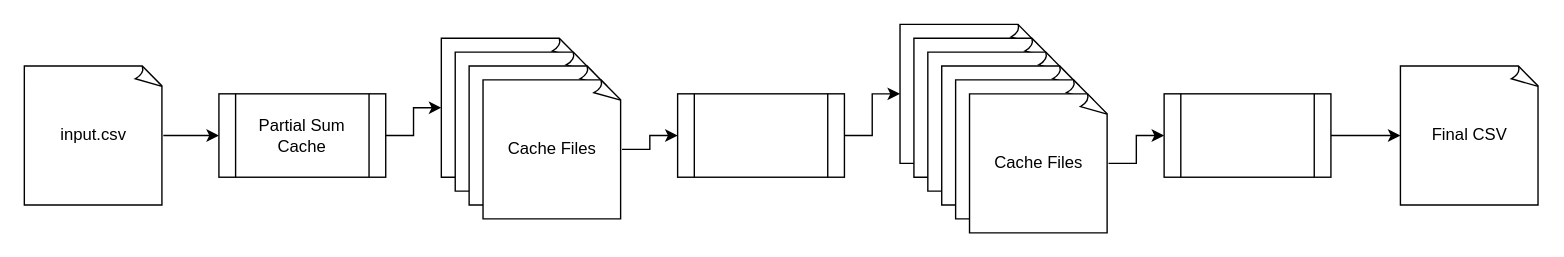
Image size: 1564x257. Some labels were removed from this diagram. The centre of each missing label's shape, as x and y in pixels:
"Cache File Splitting (Optional)" belongs at [760,134].
"Final Summation" belongs at [1247,134].
